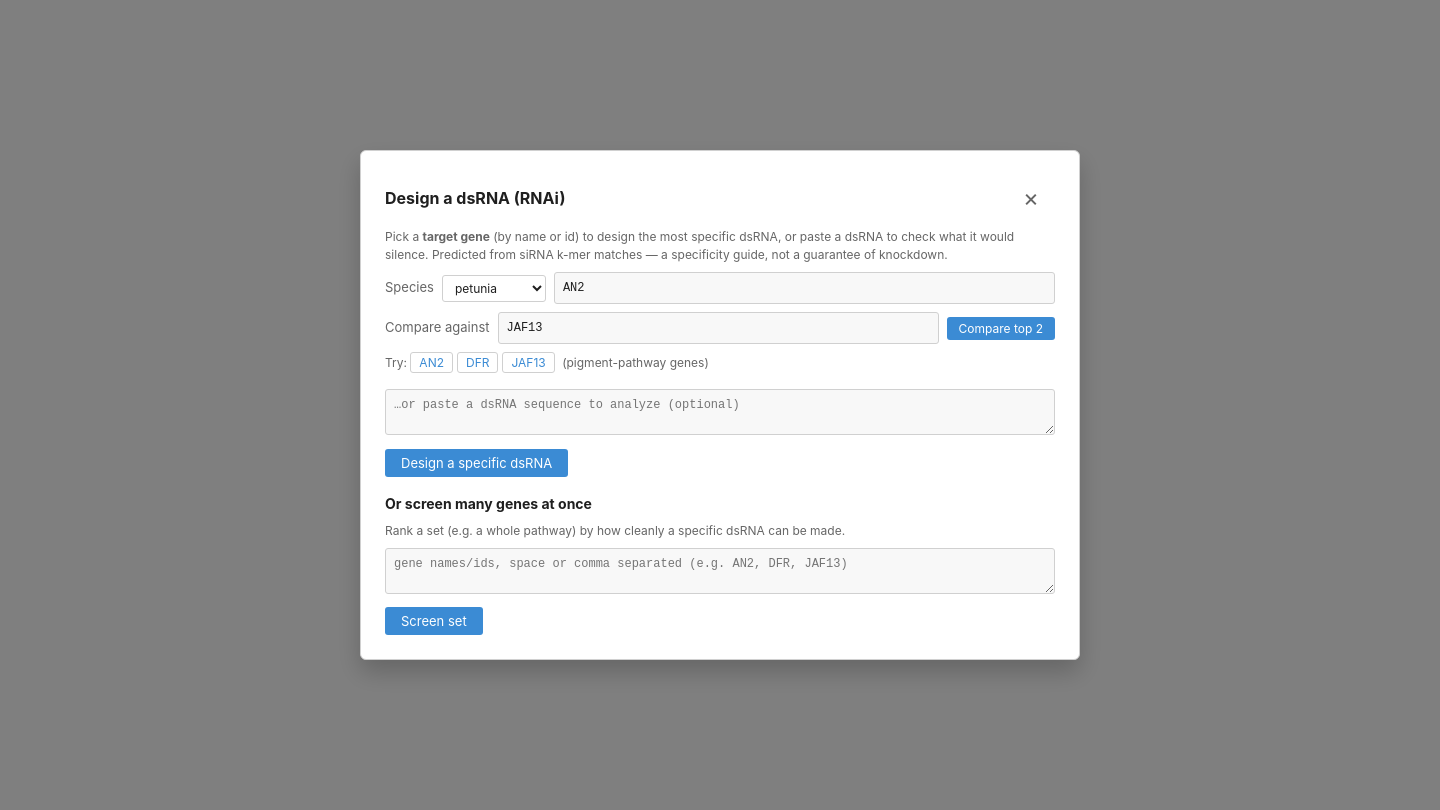
it: DsRnaPanel › lets the user switch the detailed design view to the comparison target
Step 1. Click the button "Compare top 2" → x=1001, y=328, box [947, 316, 1055, 340]
(page scrolled)
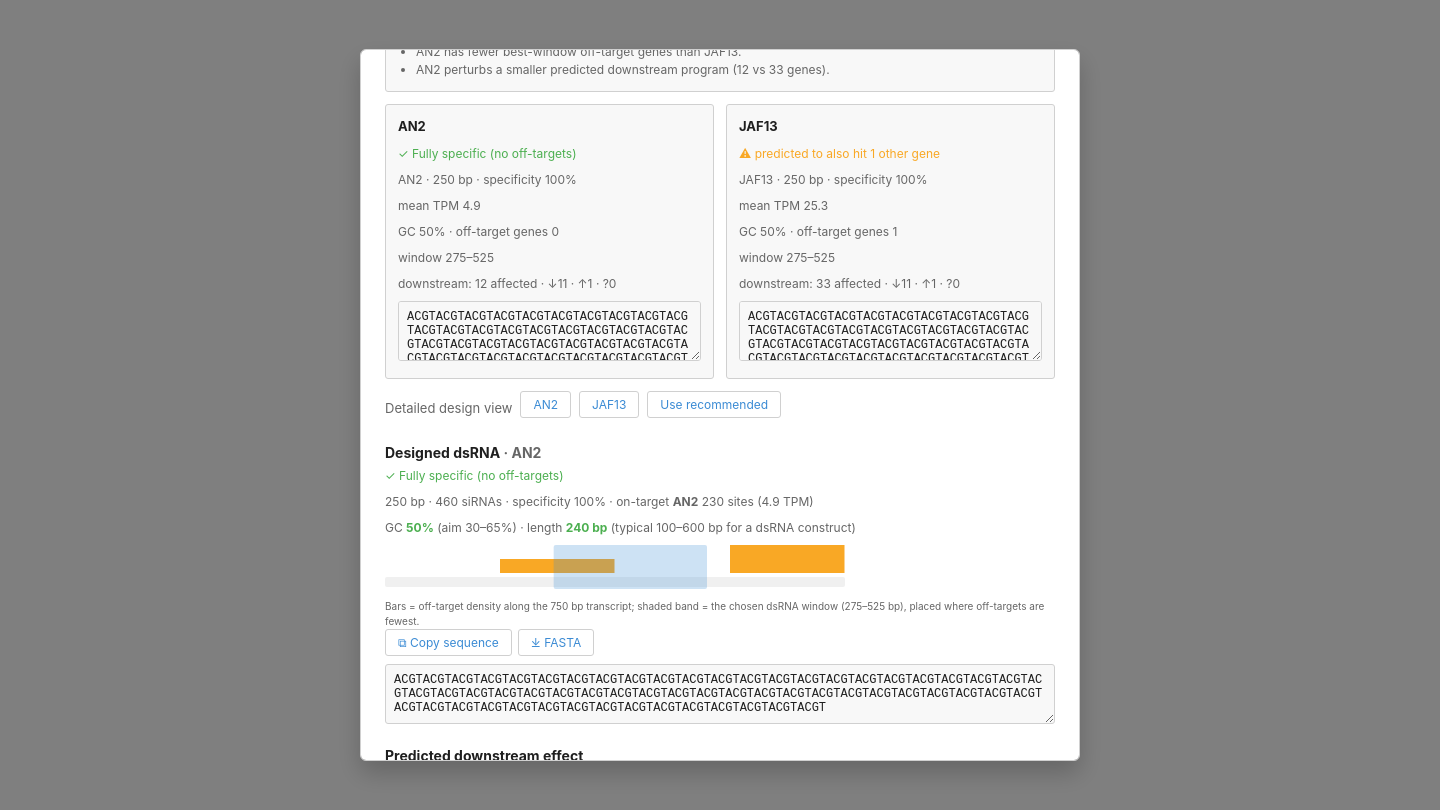
Step 2. Click the button "JAF13" → x=609, y=405, box [579, 391, 639, 418]
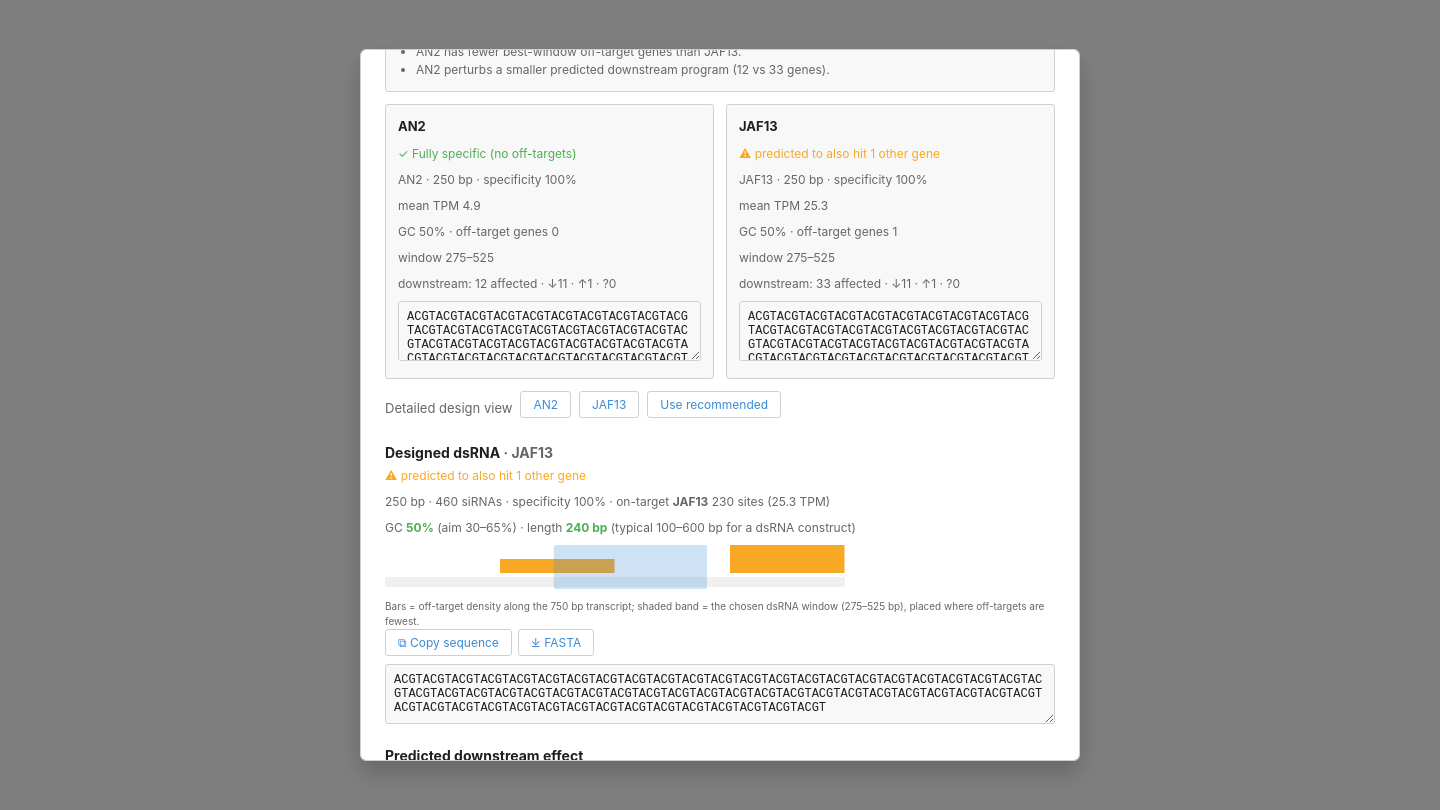
Expected: the heading "Designed dsRNA · JAF13" is shown, [385, 444, 553, 461]
Expected: the text "(25.3 TPM)" is shown, [764, 494, 830, 509]
